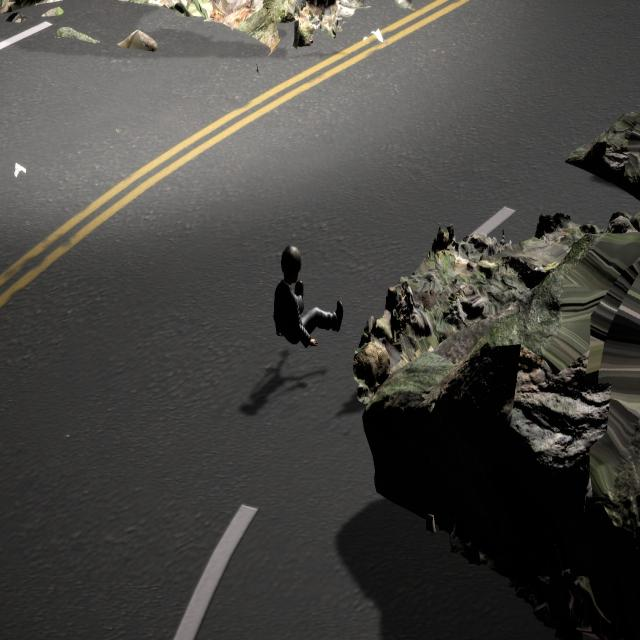Human: (265, 243, 345, 351)
